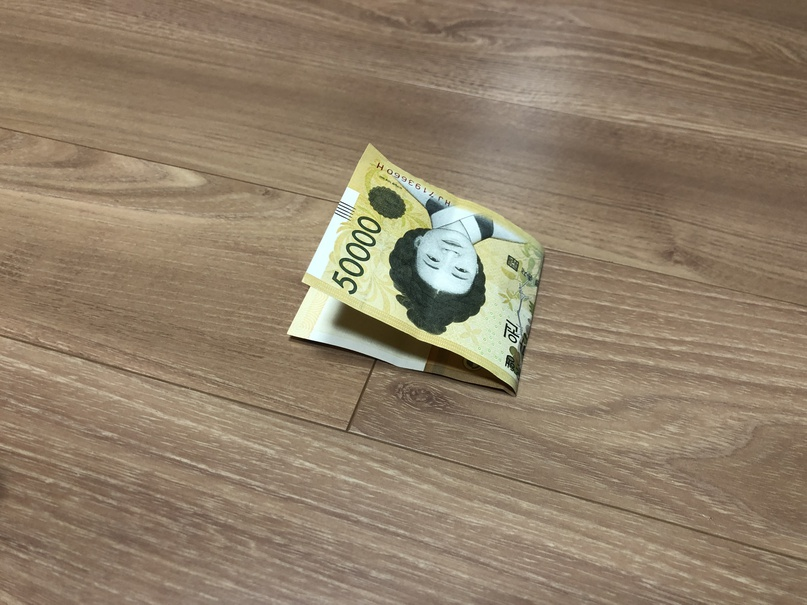50000won: (287, 142, 545, 398)
